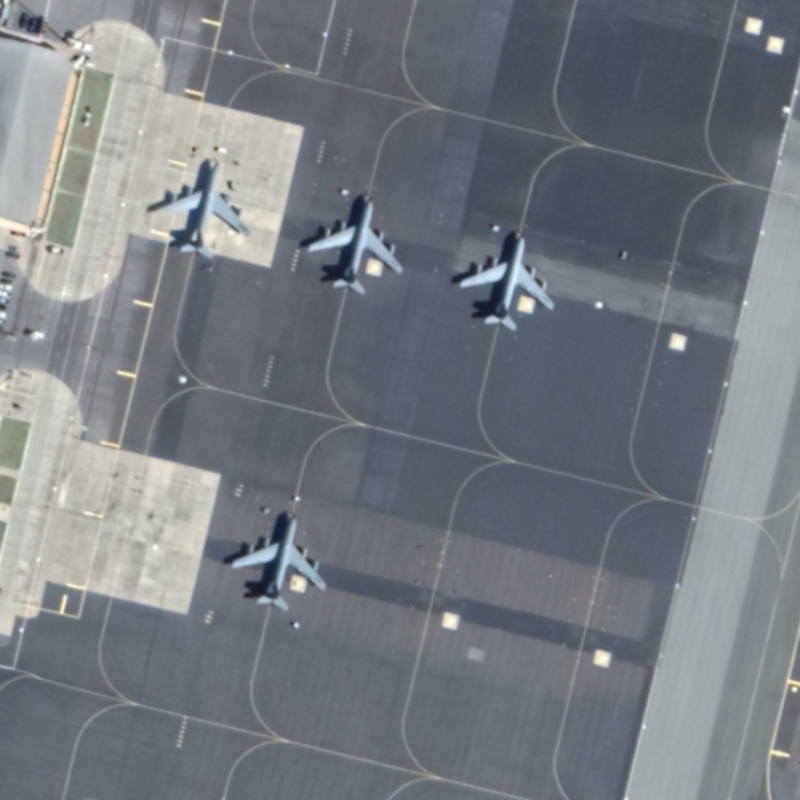A14: (304, 194, 407, 298), (152, 154, 251, 261), (456, 232, 559, 334), (229, 510, 329, 613)
